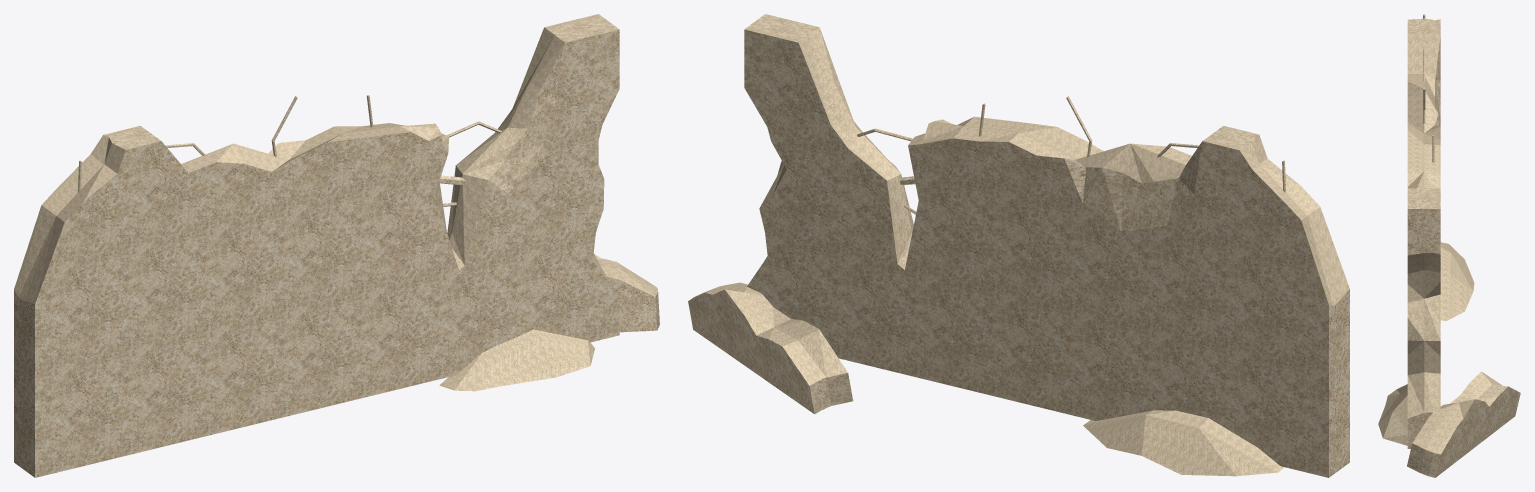
Rendered from thm_tato_imprv_wall_ruin_s02_l0.fbx.
The picture shows the model from 3 angles, left to right: view 1: azimuth 30°, elevation 25°; view 2: azimuth 150°, elevation 25°; view 3: azimuth 270°, elevation 25°; orthographic projection. The views are drawn at different scales.
Visible parts, largest first — view 1: mesh_node; view 2: mesh_node; view 3: mesh_node.
Part boxes in pixels (<box>): mesh_node: <box>14,14,659,477</box>; mesh_node: <box>688,14,1349,477</box>; mesh_node: <box>1378,14,1520,477</box>.
Bounding box in the file's own units: 8.77 × 4.23 × 2.15.
